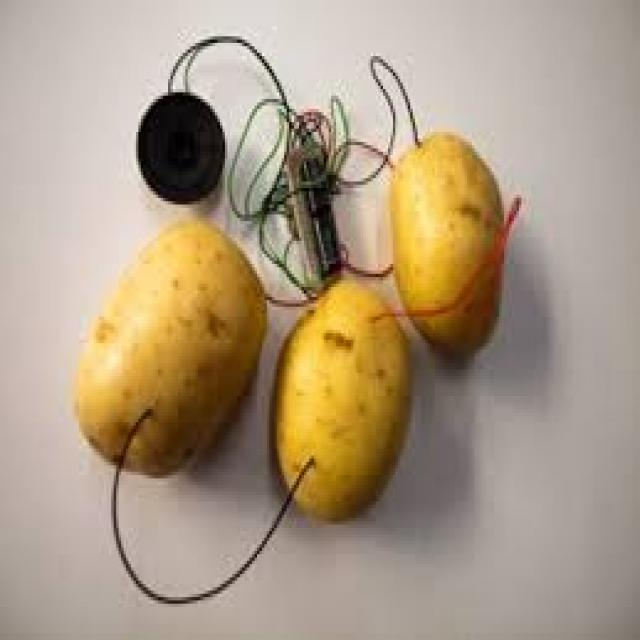organic waste: (74, 214, 265, 478), (272, 277, 412, 518), (386, 132, 502, 356)
